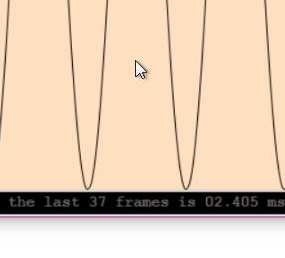cursor: (133, 57, 148, 80)
